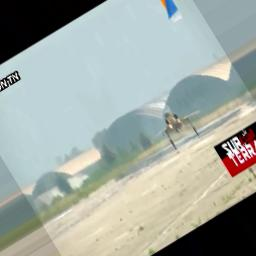Airplane: (153, 107, 201, 151)
